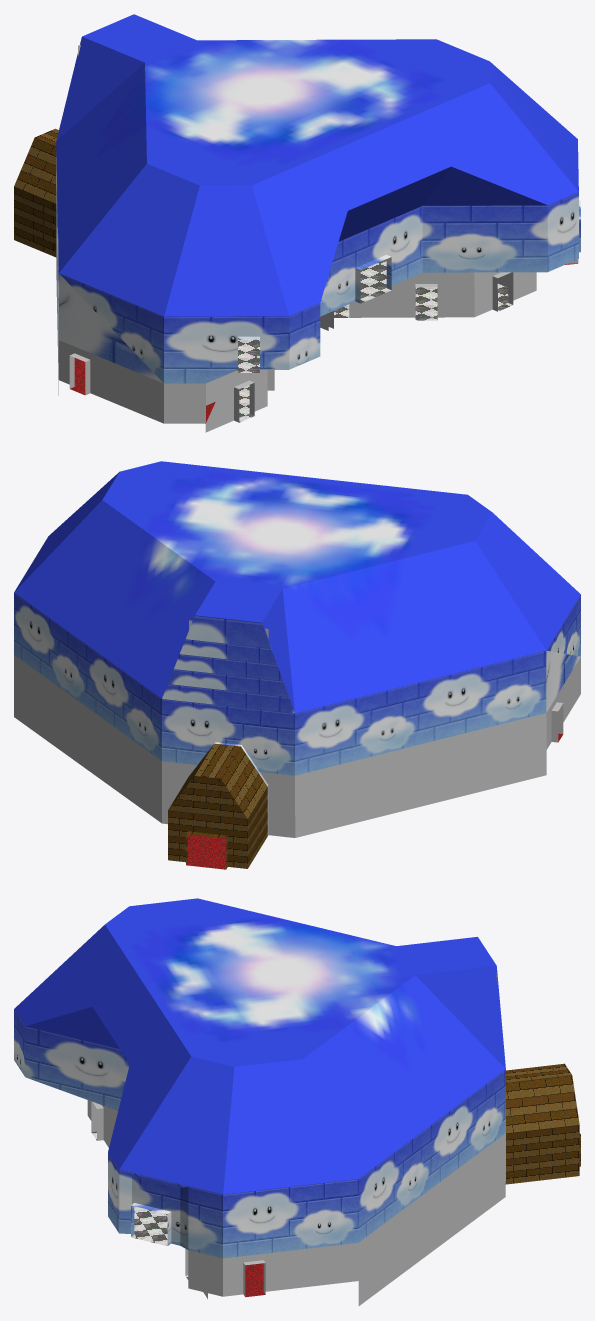
File: inside.fbx
The picture shows the model from 3 angles, top to bottom: view 1: azimuth 30°, elevation 25°; view 2: azimuth 150°, elevation 25°; view 3: azimuth 270°, elevation 25°; orthographic projection. The views are drawn at different scales.
Parts seen in each view (by area): view 1: default; view 2: default; view 3: default.
Part boxes in pixels (x1,y1,x2,y2): default: (14,14,580,432); default: (14,461,580,869); default: (14,898,580,1305).
Size of the model in its own units: 4.24 by 1.79 by 4.12.
